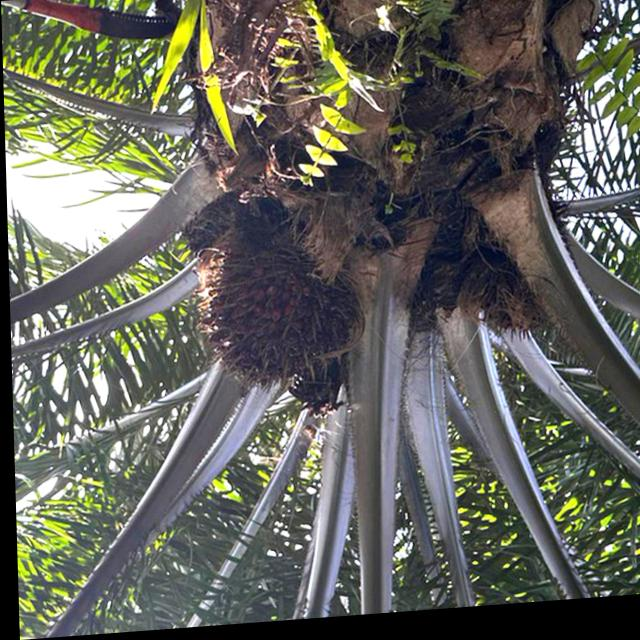ripe: (175, 237, 345, 417)
